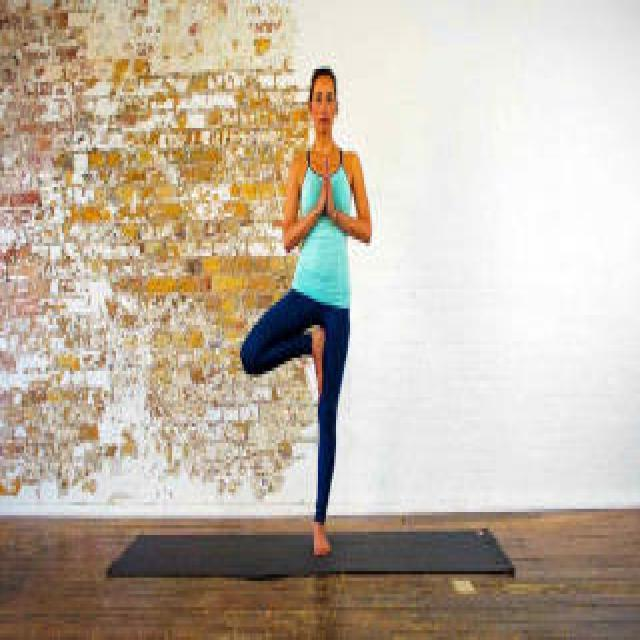yoga-pose tree: (234, 61, 390, 552)
